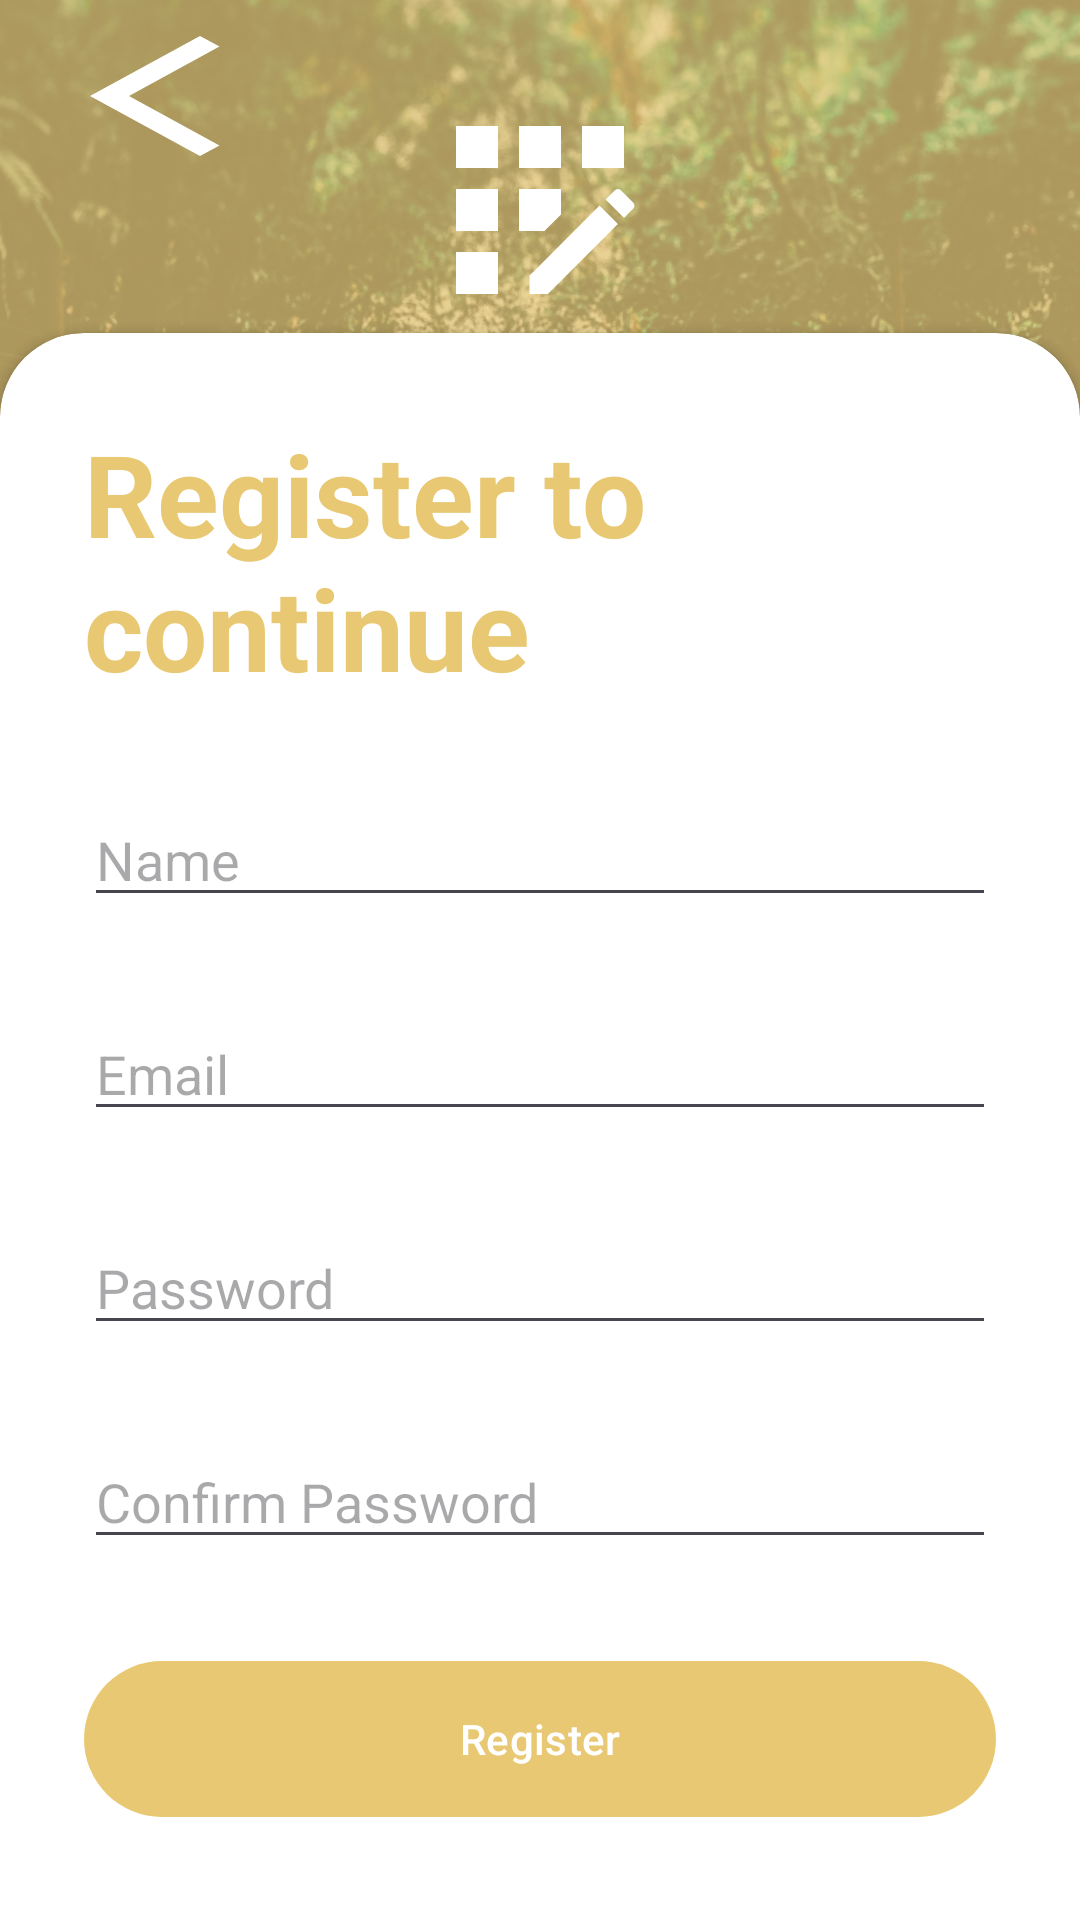

Icon click points for this 1080w x 1920h phone screenshot, format [x,y]:
backarrow: [154,96]
registration: [540,210]
